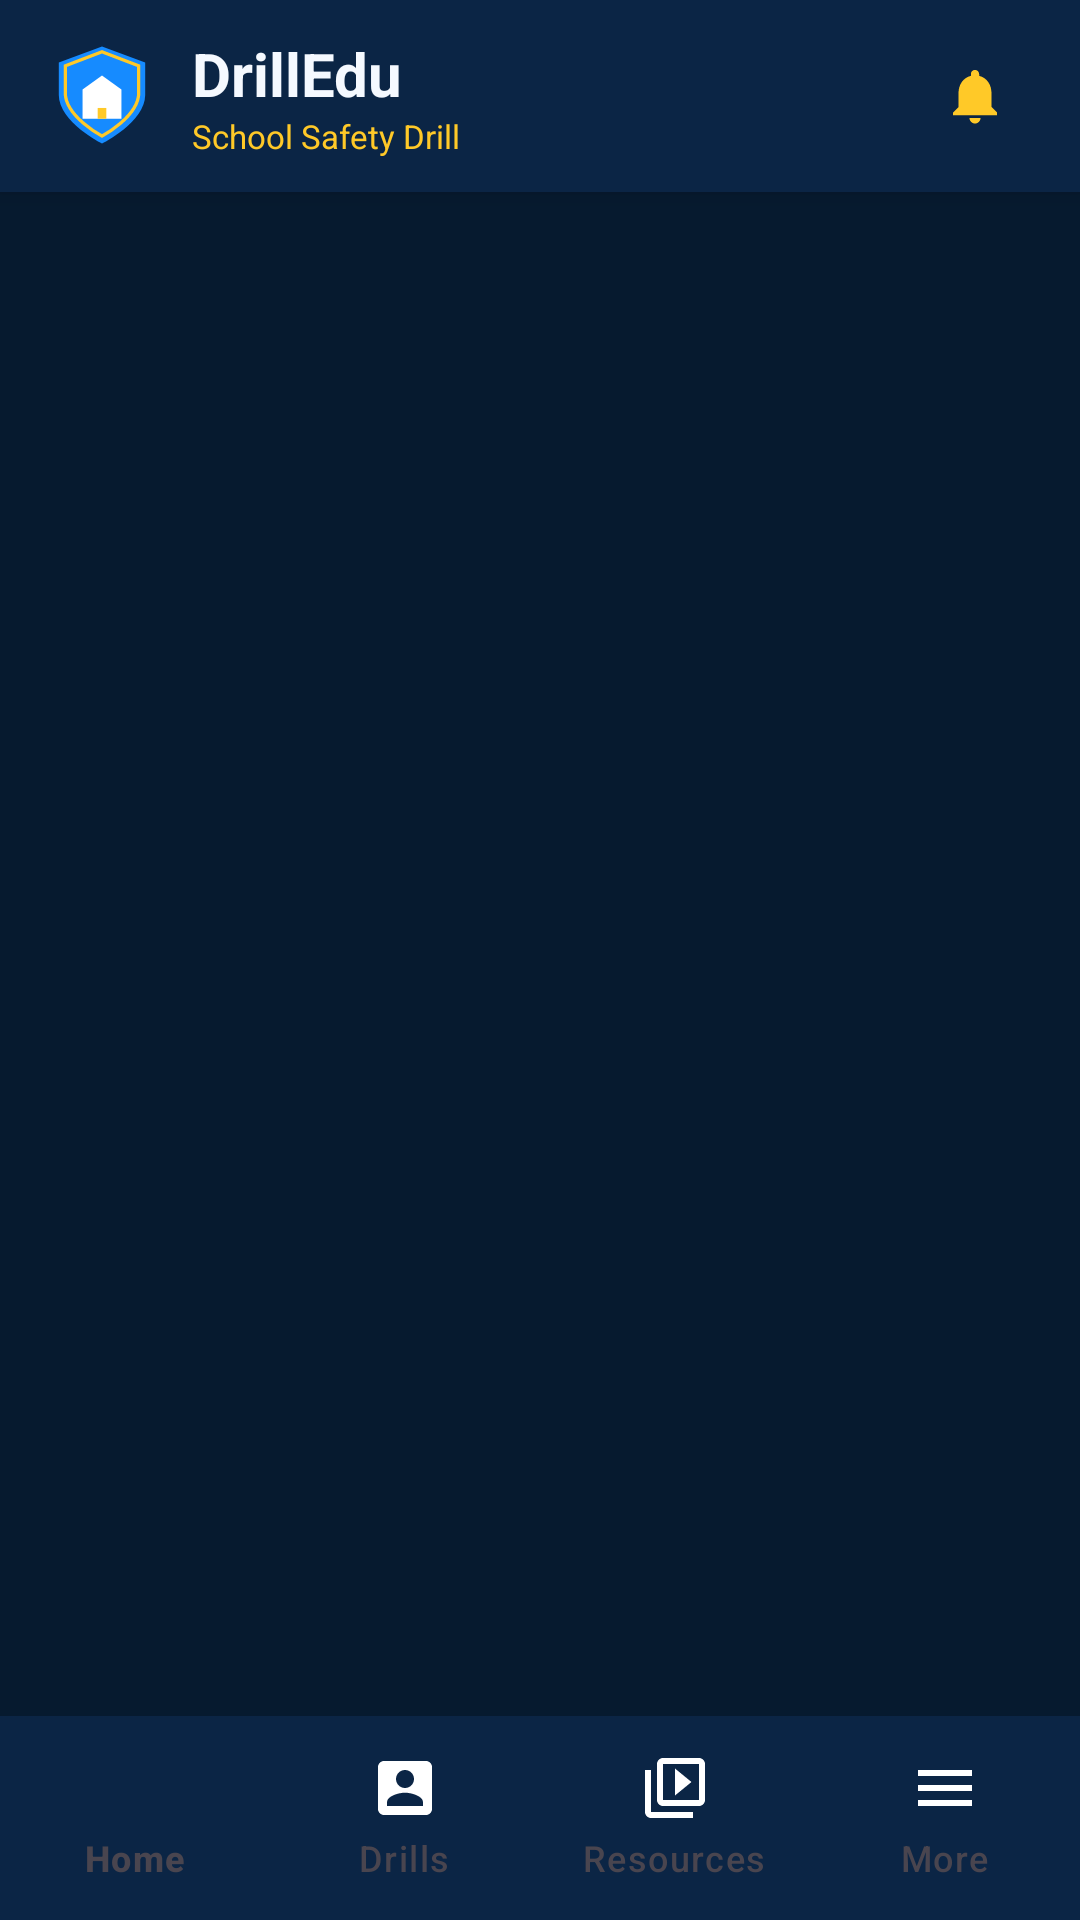

Screen size 1080w x 1920h. Icon name, then its center in pixels as point (x, y):
Notification: point (975, 97)
